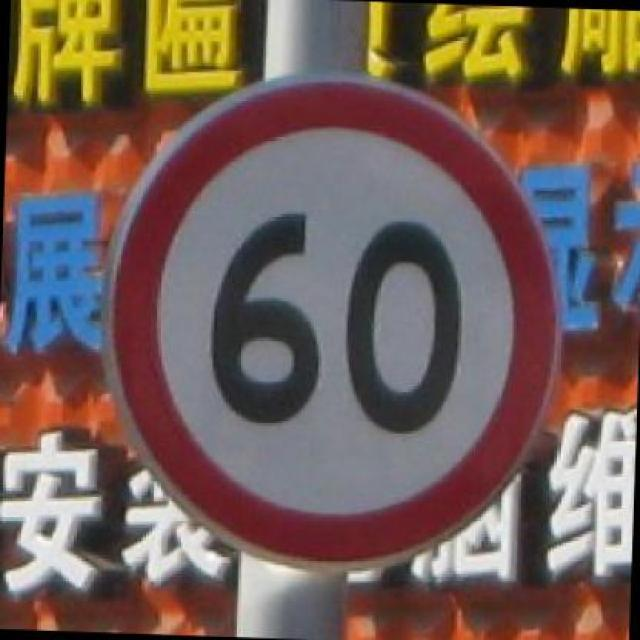Limite-60: (106, 69, 562, 572)
